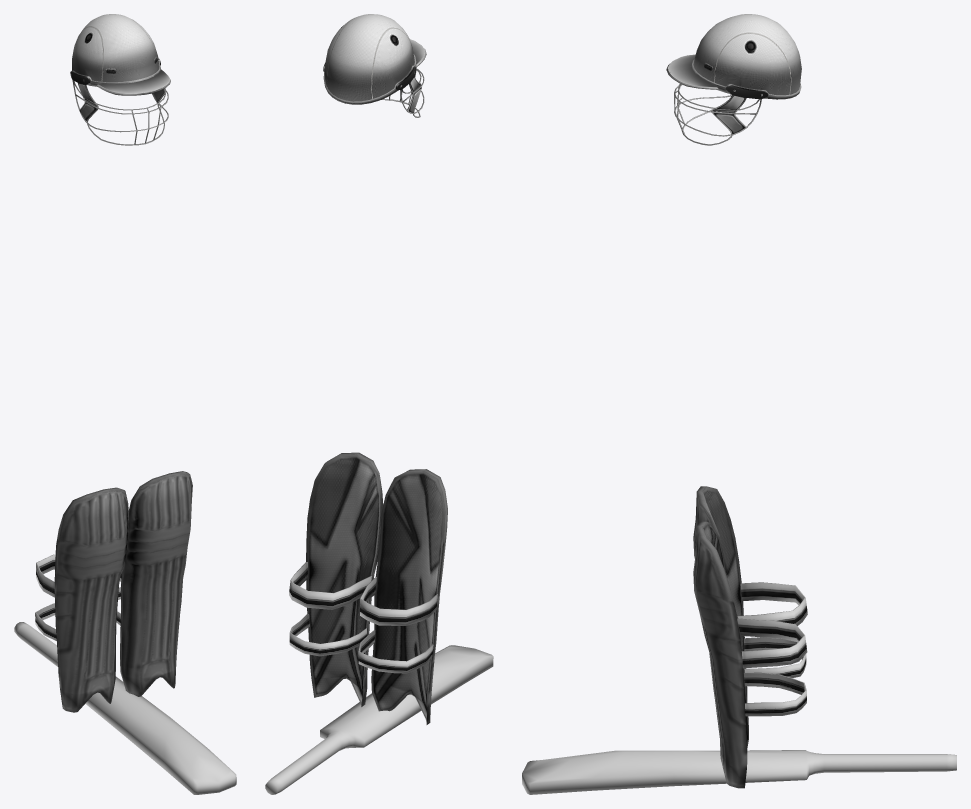
Rendered from Kit.fbx.
3 renders of one model, left to right at view 1: azimuth 30°, elevation 25°; view 2: azimuth 150°, elevation 25°; view 3: azimuth 270°, elevation 25°, orthographic. The views are drawn at different scales.
Visible parts, largest first — view 1: geo_Pads_R, geo_Pads_L, geo_Helmet, geo_Bat; view 2: geo_Pads_L, geo_Pads_R, geo_Helmet, geo_Bat; view 3: geo_Pads_L, geo_Bat, geo_Helmet, geo_Pads_R.
Boxes of the visible parts, x1=… form: geo_Pads_R: x1=35, y1=487, x2=129, y2=712; geo_Pads_L: x1=116, y1=471, x2=192, y2=696; geo_Helmet: x1=70, y1=14, x2=170, y2=145; geo_Bat: x1=14, y1=622, x2=236, y2=794; geo_Pads_L: x1=289, y1=452, x2=383, y2=706; geo_Pads_R: x1=358, y1=469, x2=447, y2=724; geo_Helmet: x1=323, y1=14, x2=426, y2=117; geo_Bat: x1=265, y1=645, x2=493, y2=794; geo_Pads_L: x1=693, y1=521, x2=807, y2=788; geo_Bat: x1=522, y1=750, x2=956, y2=794; geo_Helmet: x1=666, y1=14, x2=801, y2=145; geo_Pads_R: x1=693, y1=486, x2=807, y2=728.
Bounding box in the file's own units: 35.88 × 182 × 93.7.
